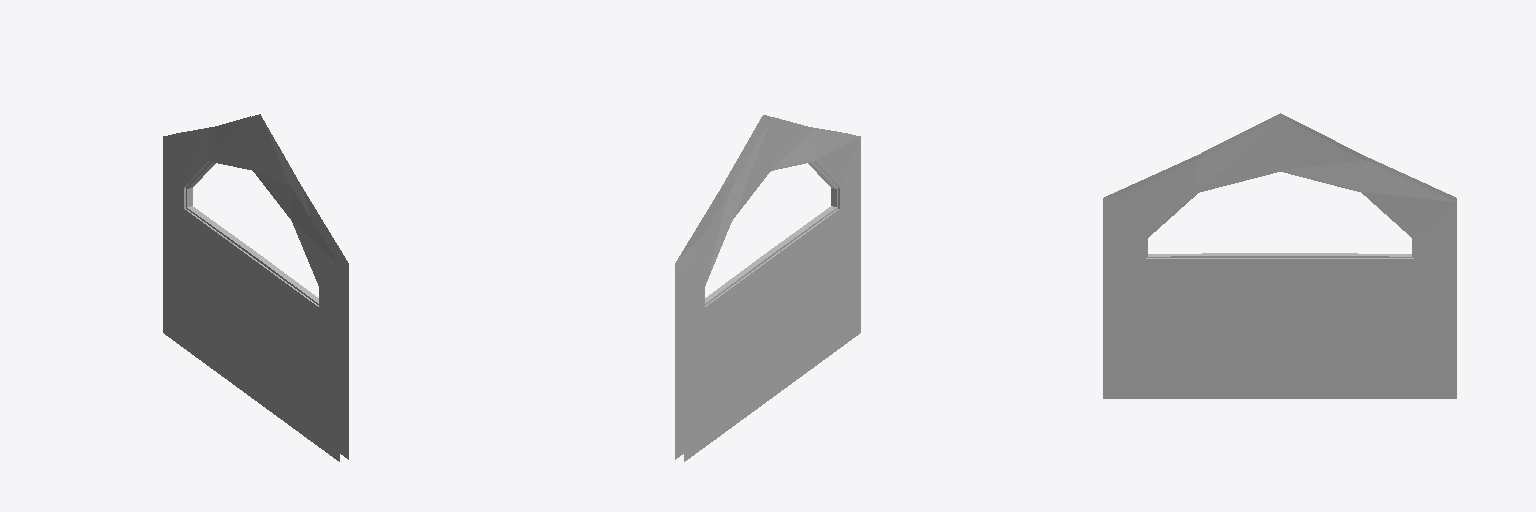
The model's file is HallExitHalfMoonWindow.obj.
3 renders of one model, left to right at view 1: azimuth 30°, elevation 25°; view 2: azimuth 150°, elevation 25°; view 3: azimuth 270°, elevation 25°, orthographic.
Parts seen in each view (by area): view 1: HouseCapHalfMoonWindow_Cube.066; view 2: HouseCapHalfMoonWindow_Cube.066; view 3: HouseCapHalfMoonWindow_Cube.066.
Boxes of the visible parts, x1=… form: HouseCapHalfMoonWindow_Cube.066: x1=163, y1=114, x2=348, y2=461; HouseCapHalfMoonWindow_Cube.066: x1=675, y1=115, x2=860, y2=461; HouseCapHalfMoonWindow_Cube.066: x1=1103, y1=113, x2=1456, y2=398.
Bounding box in the file's own units: 0.3409 × 8.16 × 9.31.